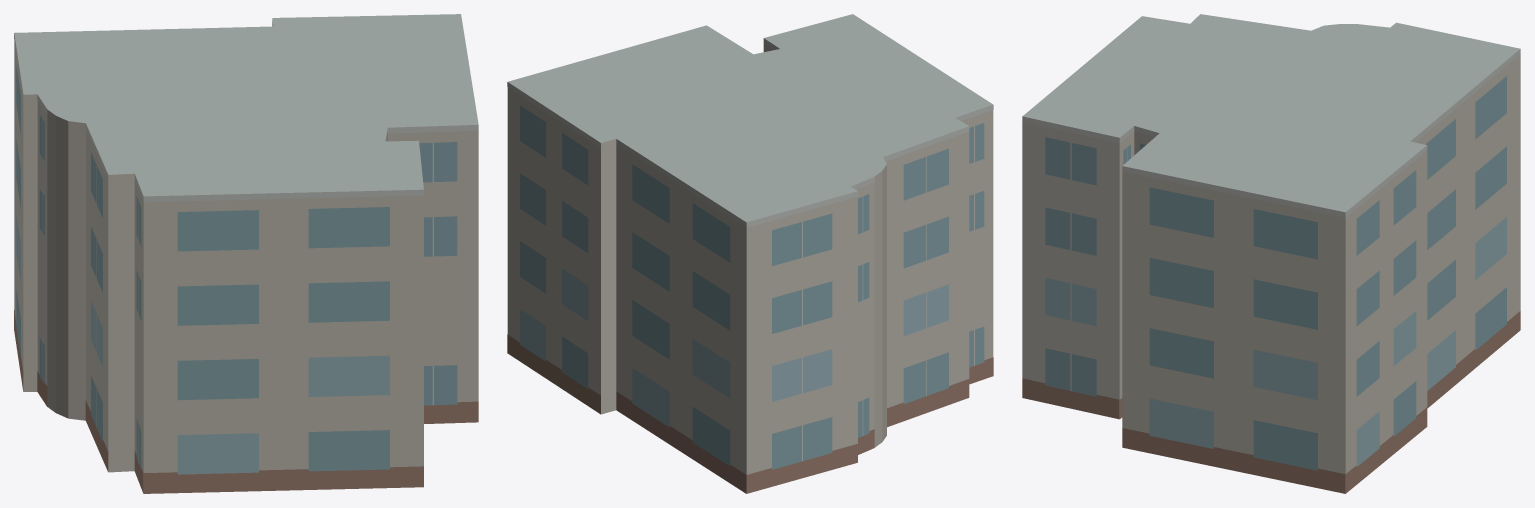
File: survey-upis-33026316.glb
The picture shows the model from 3 angles, left to right: view 1: azimuth 30°, elevation 25°; view 2: azimuth 150°, elevation 25°; view 3: azimuth 270°, elevation 25°; orthographic projection. The views are drawn at different scales.
Visible parts, largest first — view 1: survey-upis-33026316.tmp; view 2: survey-upis-33026316.tmp; view 3: survey-upis-33026316.tmp.
Boxes of the visible parts, x1,y1,x2,y2 form: survey-upis-33026316.tmp: [14, 14, 478, 493]; survey-upis-33026316.tmp: [507, 14, 993, 493]; survey-upis-33026316.tmp: [1022, 14, 1520, 493].
Size of the model in its own units: 18.74 by 12.4 by 19.89.
